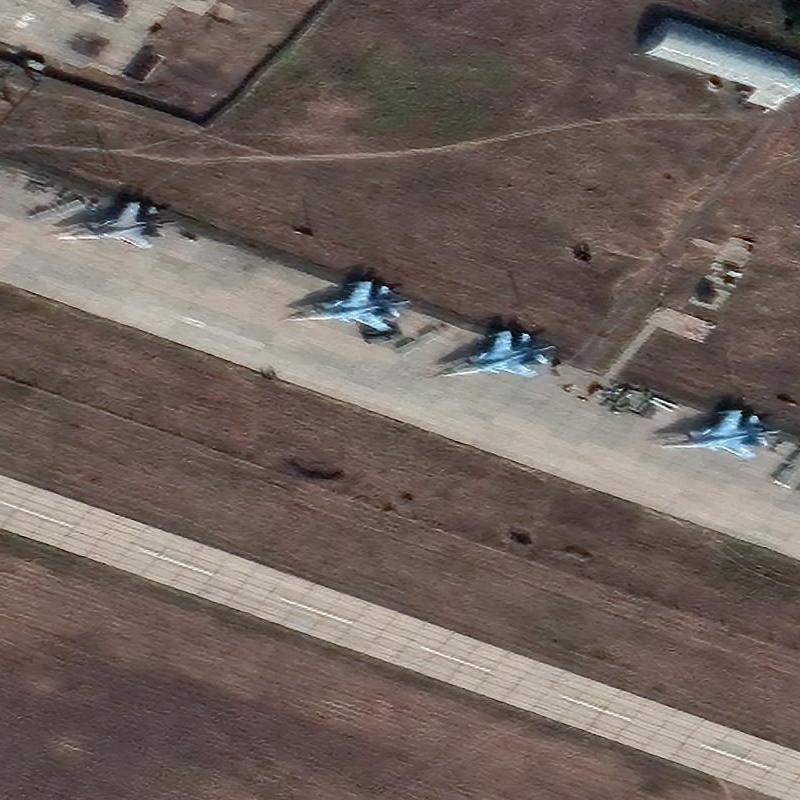A19: (283, 276, 412, 334), (655, 406, 783, 462), (51, 198, 178, 250), (434, 327, 555, 381)
